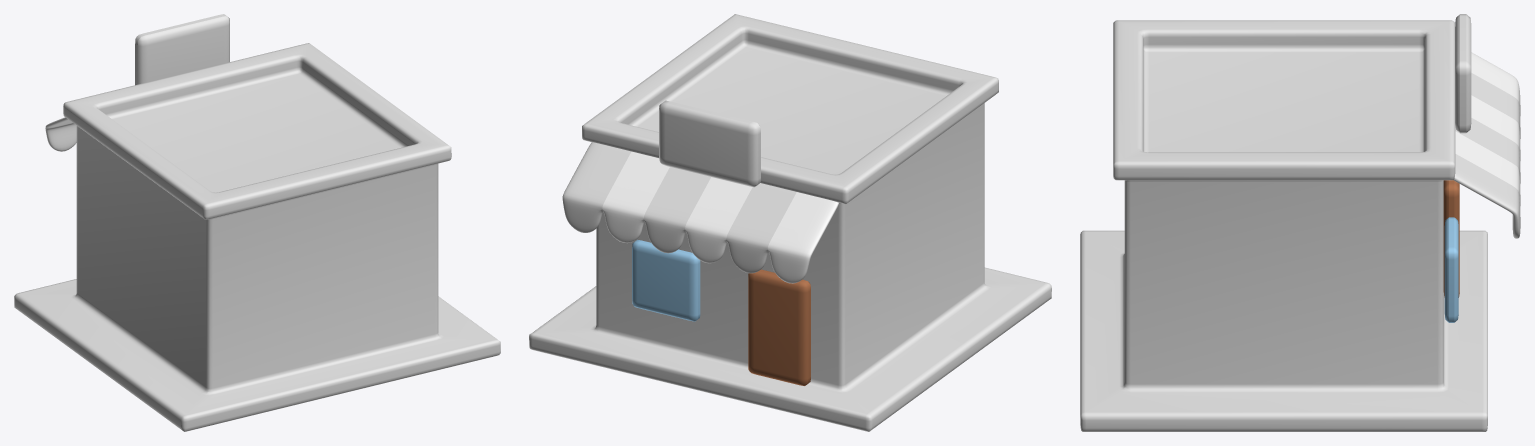
Rendered from shop.gltf.
The picture shows the model from 3 angles, left to right: view 1: azimuth 30°, elevation 25°; view 2: azimuth 150°, elevation 25°; view 3: azimuth 270°, elevation 25°; orthographic projection. The views are drawn at different scales.
Parts seen in each view (by area): view 1: Shop; view 2: Shop; view 3: Shop.
Part boxes in pixels (x1=…): Shop: x1=14, y1=14, x2=500, y2=431; Shop: x1=529, y1=14, x2=1051, y2=431; Shop: x1=1080, y1=14, x2=1520, y2=431.
Size of the model in its own units: 6.9 by 5.22 by 6.9.
